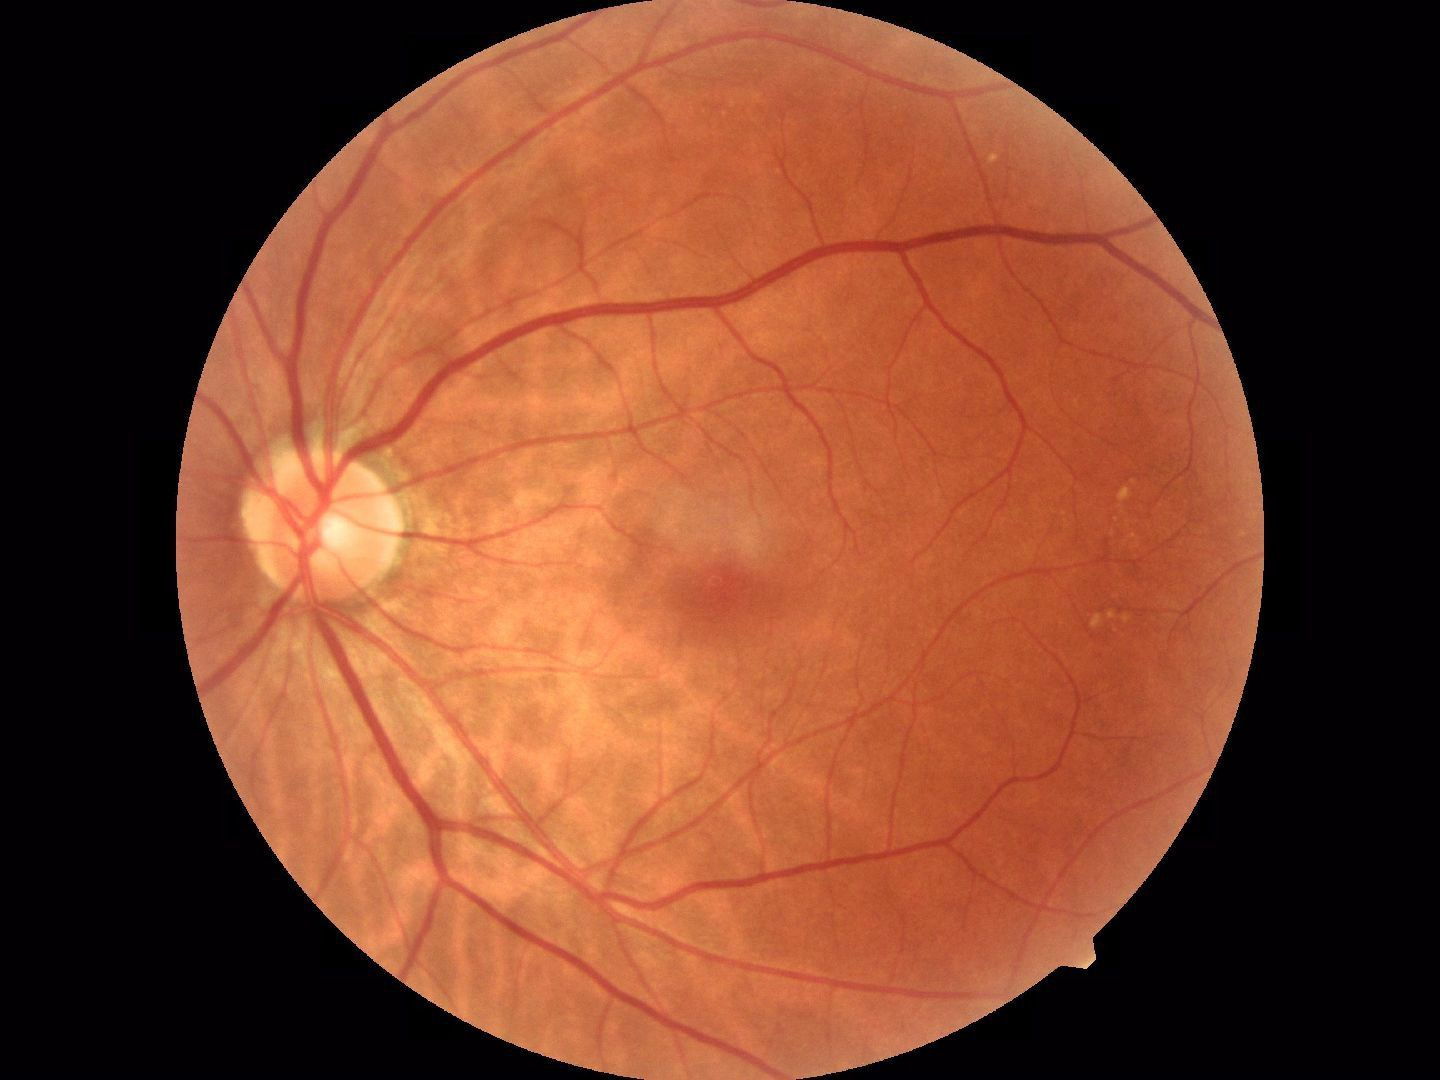Arterioles: (613, 322, 942, 513), (601, 746, 956, 920)
Optic-Disc: (218, 438, 414, 592)
Venules: (327, 674, 507, 952), (264, 270, 495, 410)
